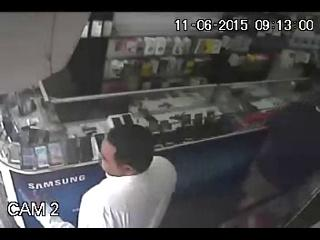Normal: (218, 71, 320, 228), (67, 121, 182, 228)
